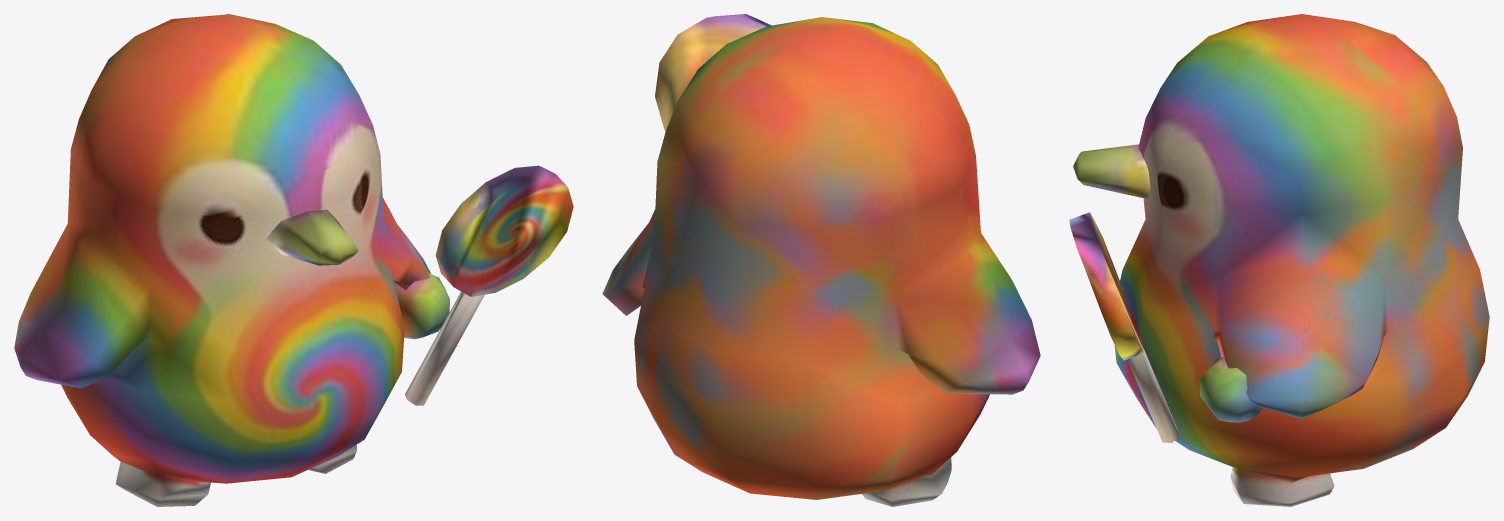
Rendered from penguin-10-24-lollipop-clay-penguin.gltf.
3 renders of one model, left to right at view 1: azimuth 30°, elevation 25°; view 2: azimuth 150°, elevation 25°; view 3: azimuth 270°, elevation 25°, orthographic. The views are drawn at different scales.
Visible parts, largest first — view 1: penguin-10-24-lollipop-clay-penguin; view 2: penguin-10-24-lollipop-clay-penguin; view 3: penguin-10-24-lollipop-clay-penguin.
Part boxes in pixels (bbox=[...]): penguin-10-24-lollipop-clay-penguin: bbox=[14, 14, 573, 506]; penguin-10-24-lollipop-clay-penguin: bbox=[602, 14, 1040, 506]; penguin-10-24-lollipop-clay-penguin: bbox=[1069, 14, 1489, 506].
Size of the model in its own units: 0.2 by 0.1841 by 0.1621.
1 material, 1 textured.
